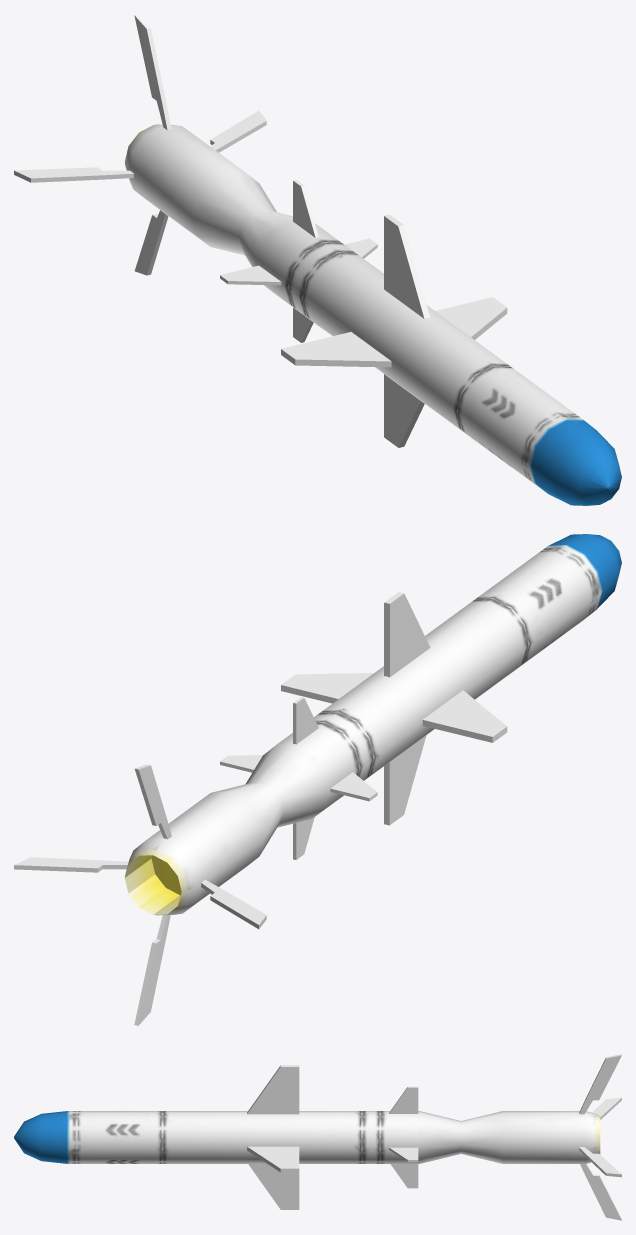
Rendered from Missile_2.FBX.
The picture shows the model from 3 angles, top to bottom: view 1: azimuth 30°, elevation 25°; view 2: azimuth 150°, elevation 25°; view 3: azimuth 270°, elevation 25°; orthographic projection. The views are drawn at different scales.
Visible parts, largest first — view 1: daodan_2; view 2: daodan_2; view 3: daodan_2.
Boxes of the visible parts, bbox=[...] form: daodan_2: bbox=[14, 14, 621, 505]; daodan_2: bbox=[14, 534, 621, 1025]; daodan_2: bbox=[14, 1054, 621, 1220].
Size of the model in its own units: 291 by 291 by 970.
1 material, 1 textured.
